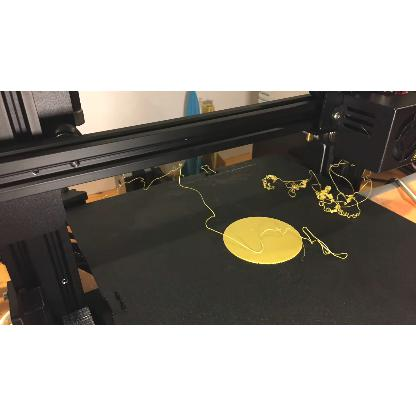fail: (256, 157, 374, 217), (302, 224, 350, 262)
